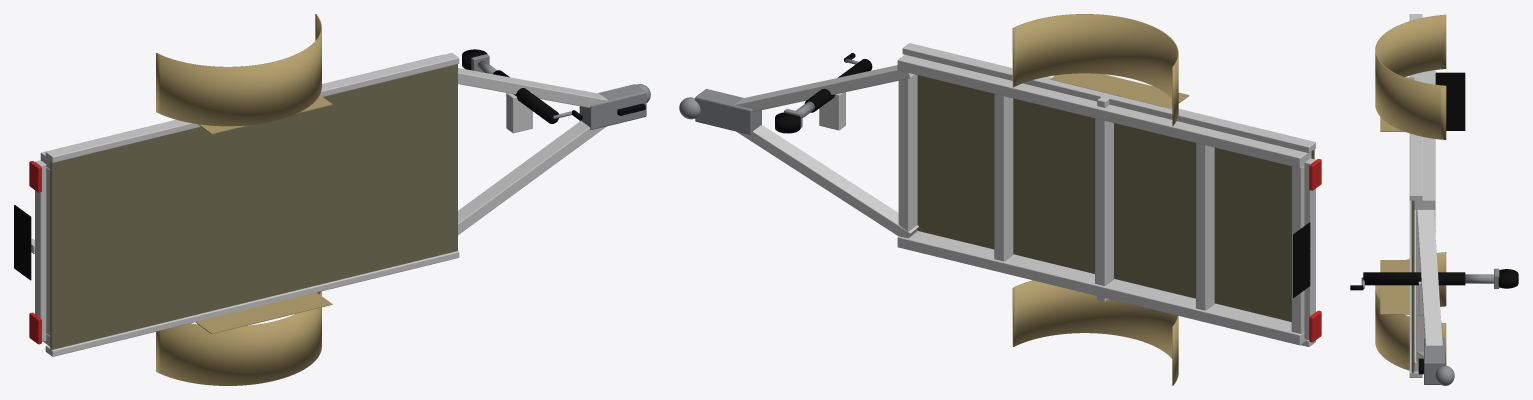
File: utv_trailer_chassis.obj
The picture shows the model from 3 angles, left to right: view 1: azimuth 30°, elevation 25°; view 2: azimuth 150°, elevation 25°; view 3: azimuth 270°, elevation 25°; orthographic projection. The views are drawn at different scales.
Parts seen in each view (by area): view 1: rail; view 2: rail; view 3: rail.
Part boxes in pixels (x1,y1,x2,y2): rail: (14,14,650,385); rail: (679,14,1321,385); rail: (1350,14,1518,385).
Bounding box in the file's own units: 3.11 × 1.51 × 0.79.
